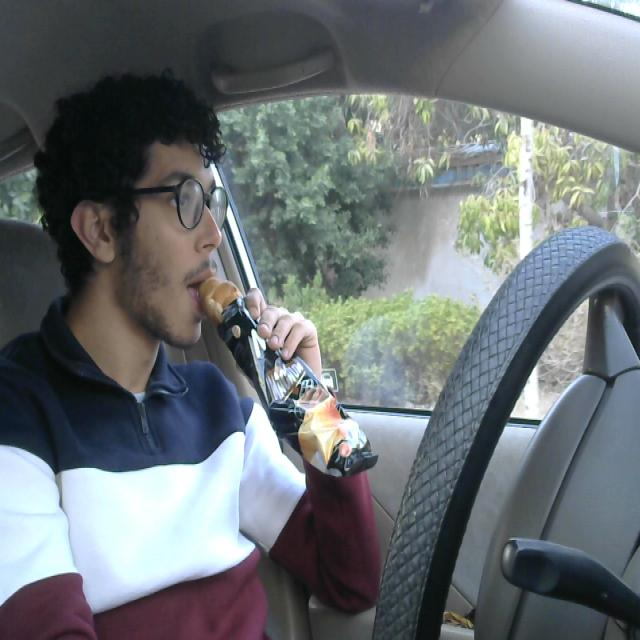eating: (194, 258, 384, 506)
